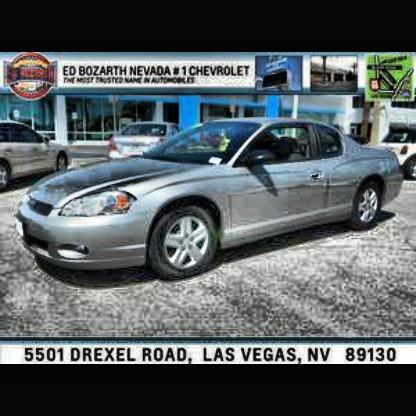Chevrolet Monte Carlo Coupe 2007: (19, 115, 408, 289)
